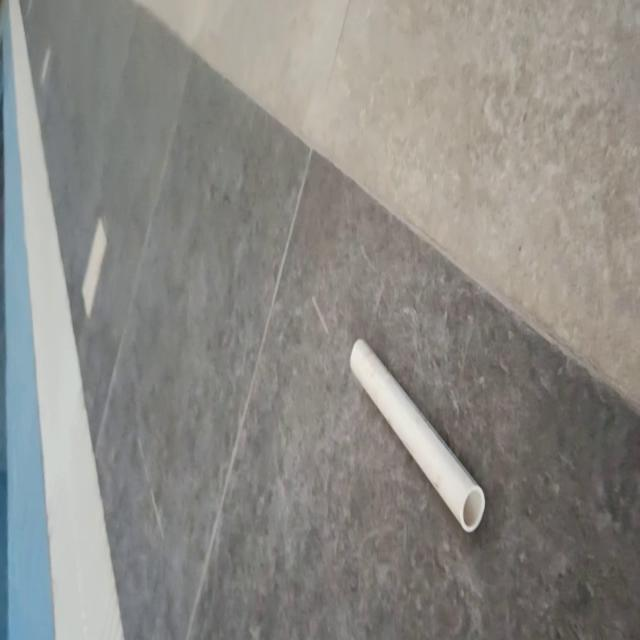Cube: (348, 336, 486, 533)
